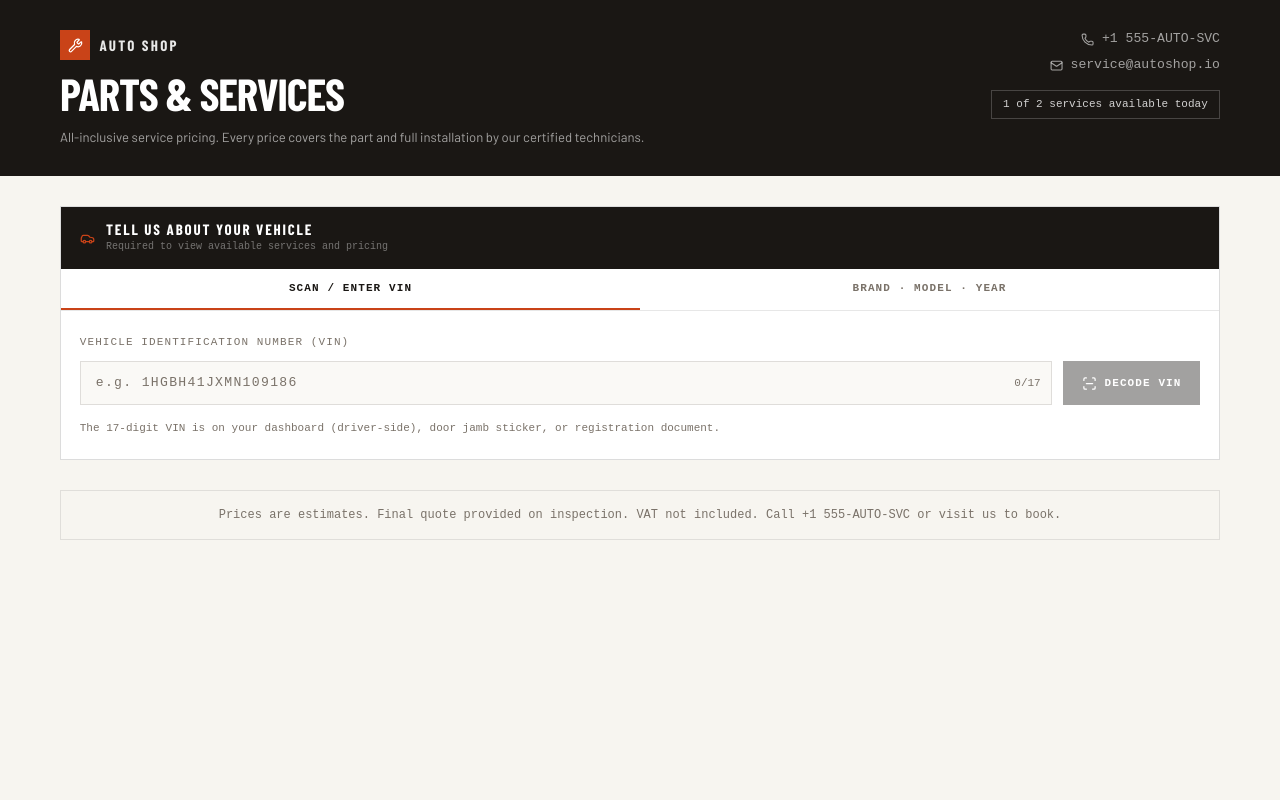
Test: CustomerPortal vehicle gate › filters the listed services by category
Type "1FTFW1E50MFA00001" into the field with placeholder "e.g. 1HGBH41JXMN109186".
click(566, 383); type("1FTFW1E50MFA00001")  # box [80,361,1052,405]
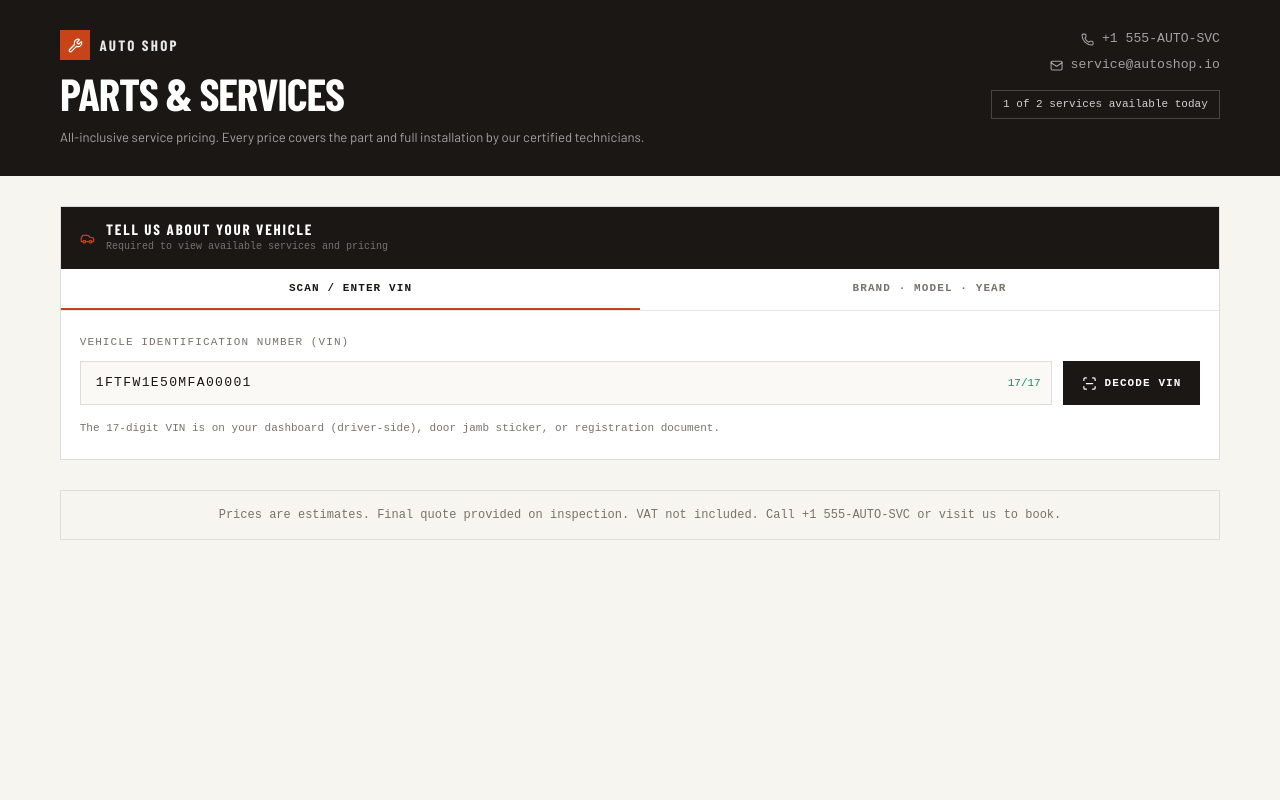
Click the button "Decode VIN".
click(1132, 383)  # box [1063,361,1200,405]
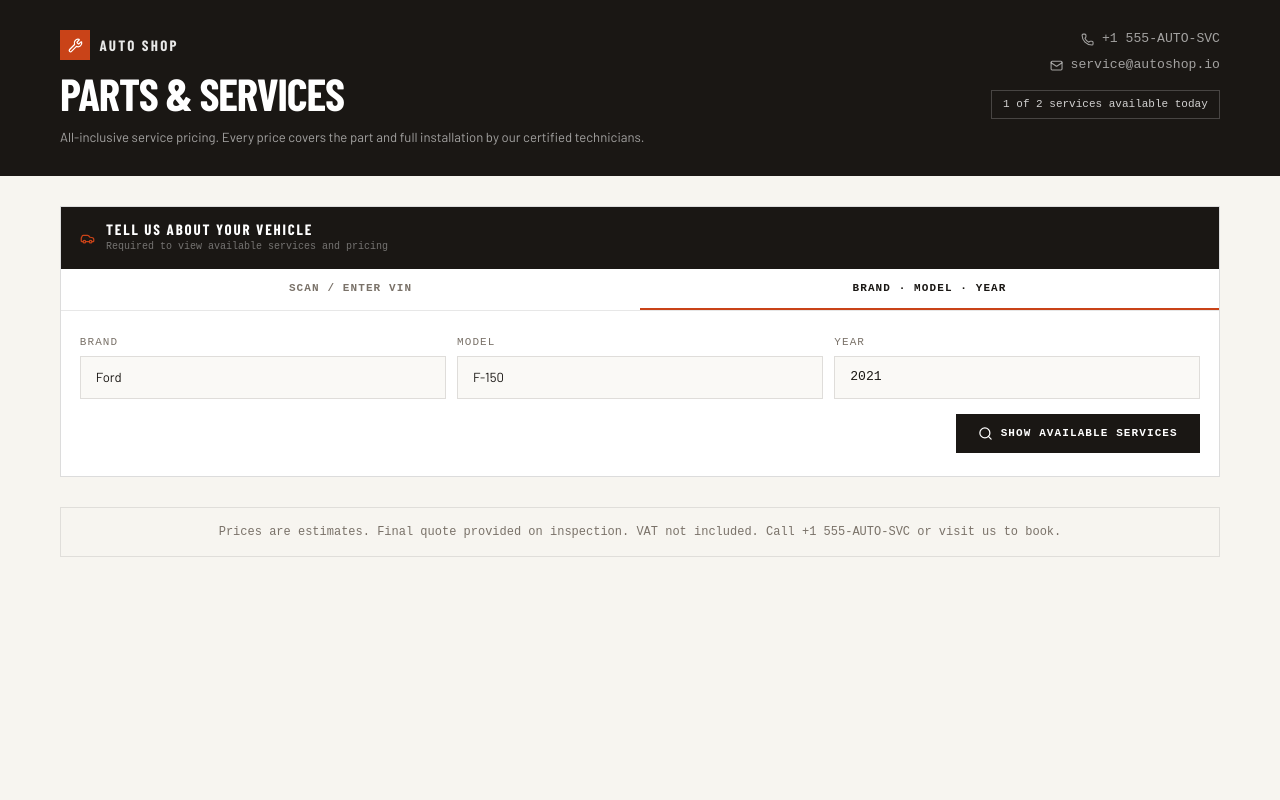
Click the button "Show Available Services".
click(1078, 434)  # box [956,414,1200,453]
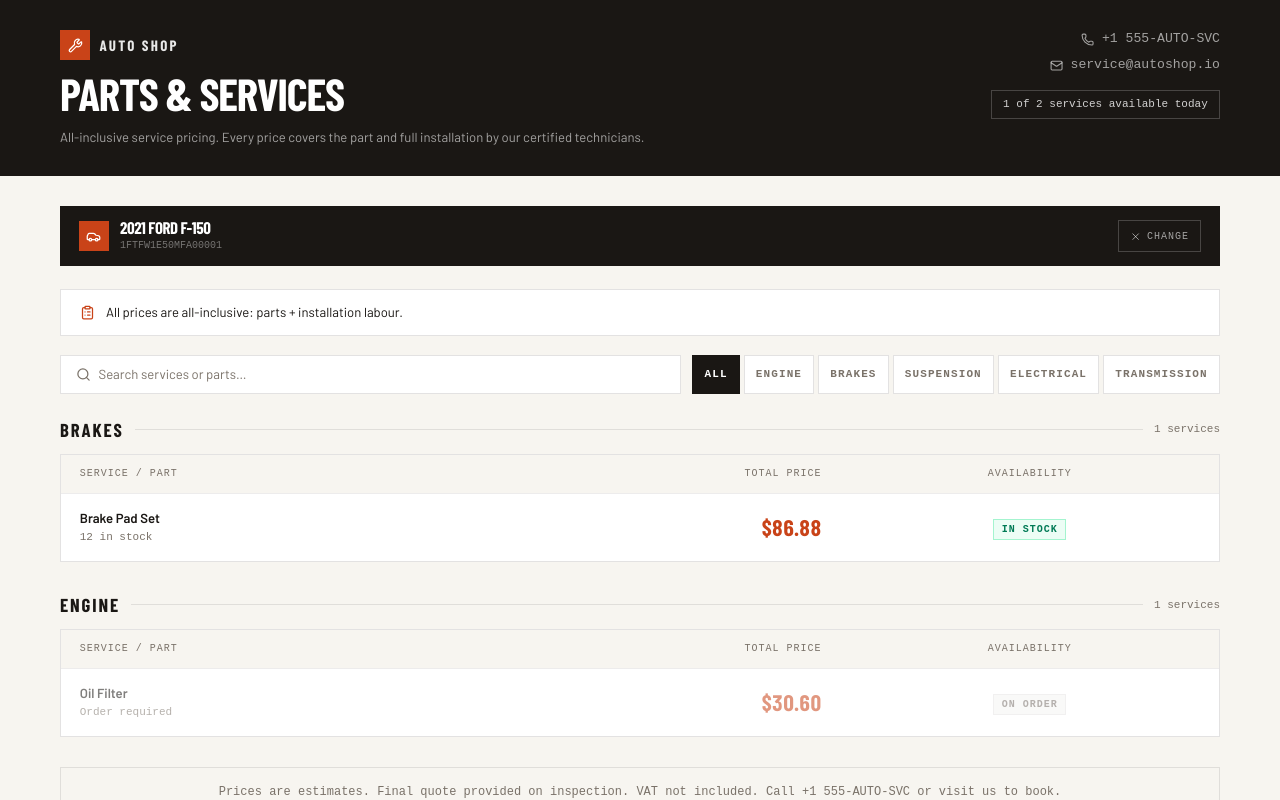
Click the button "Brakes".
click(853, 374)  # box [818,354,889,394]
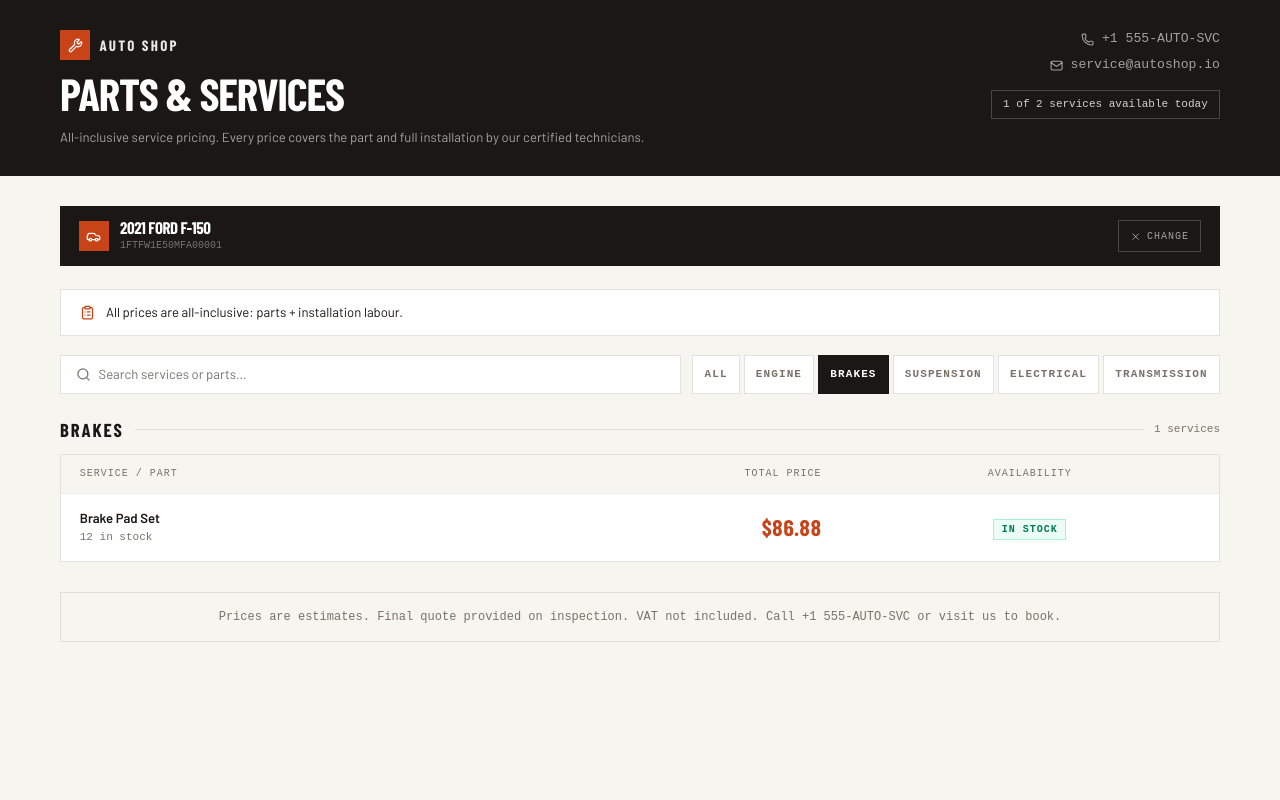
expect the text "Brake Pad Set" is shown: met, box [80,510,160,526]
expect the text "Oil Filter" is gone: met
